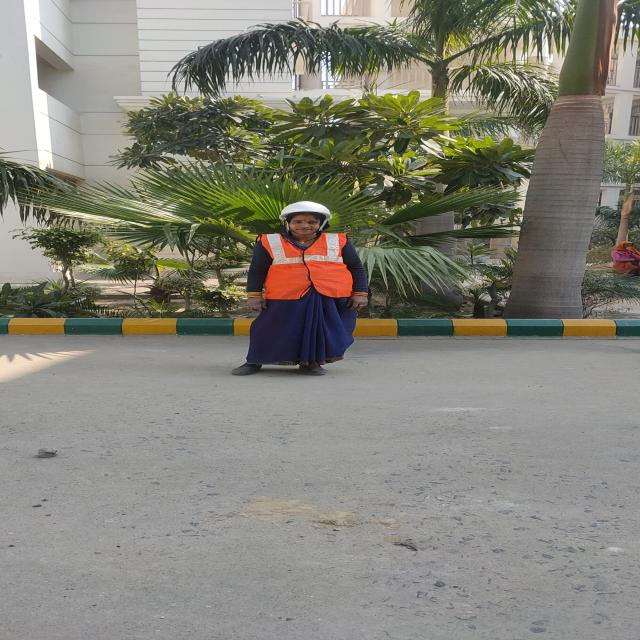safe: (247, 201, 368, 375)
unsafe: (611, 242, 639, 272)
